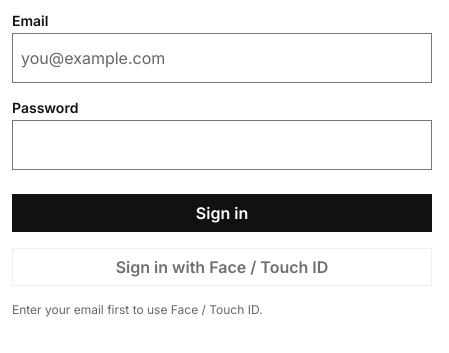
LoginForm › maps a passkey NotAllowedError to no-passkey guidance, not a generic failure
In the field with placeholder "you@example.com": {"x": 222, "y": 58} [12,33,432,83], type "a@b.com"
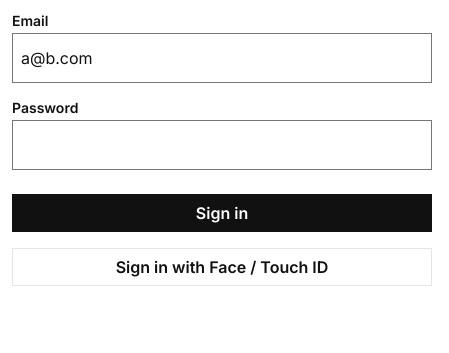
Click the button "Sign in with Face / Touch ID": {"x": 222, "y": 267} [12,248,432,286]
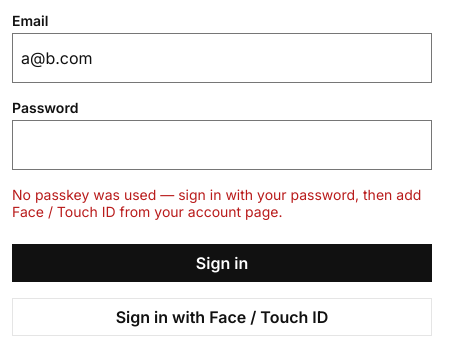
Now the message is shown, box [12,186,432,220]
Now the message shows "No passkey was used", box [12,186,421,220]
Now the message shows "add face / touch id from your account", box [12,186,421,220]
